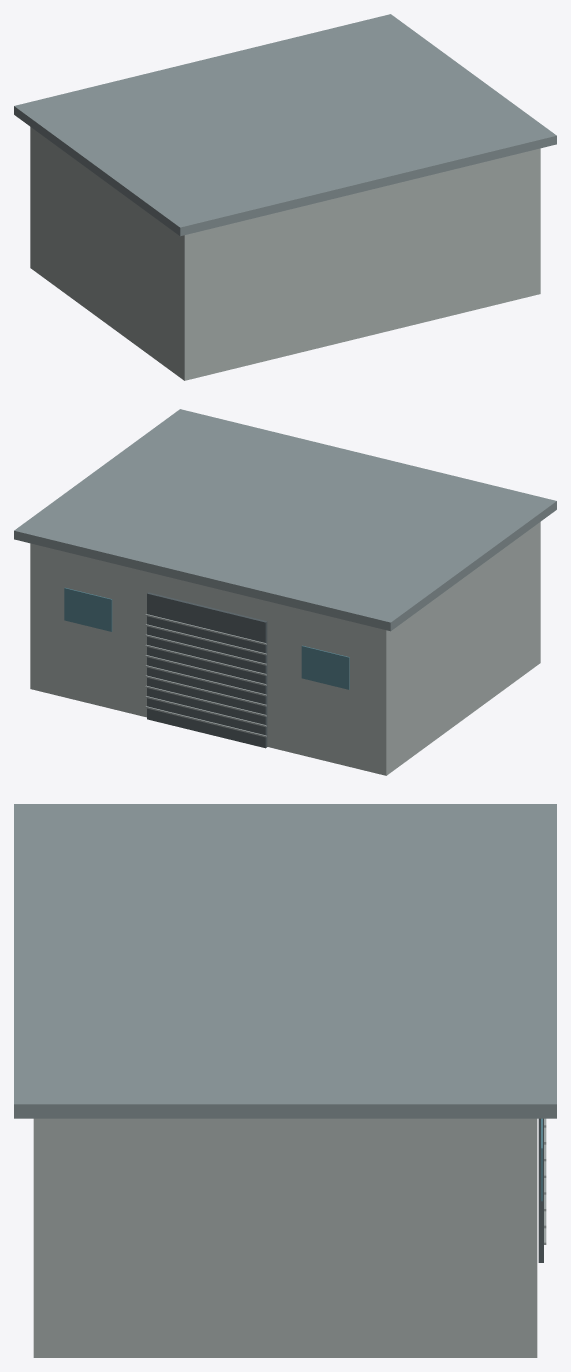
Rendered from DF_MOD_Warehouse.glb.
The picture shows the model from 3 angles, top to bottom: view 1: azimuth 30°, elevation 25°; view 2: azimuth 150°, elevation 25°; view 3: azimuth 270°, elevation 25°; orthographic projection. The views are drawn at different scales.
Parts seen in each view (by area): view 1: Frame, RibbedRoof; view 2: RibbedRoof, Frame, RollupDoor, SideWindow_1, SideWindow_-1; view 3: RibbedRoof, Frame, RollupDoor.
Part boxes in pixels (bbox=[...]): Frame: bbox=[30, 127, 540, 380]; RibbedRoof: bbox=[14, 14, 556, 236]; RibbedRoof: bbox=[14, 409, 556, 631]; Frame: bbox=[30, 522, 540, 775]; RollupDoor: bbox=[147, 592, 267, 748]; SideWindow_1: bbox=[64, 587, 112, 631]; SideWindow_-1: bbox=[301, 645, 349, 689]; RibbedRoof: bbox=[14, 804, 556, 1118]; Frame: bbox=[33, 1118, 537, 1357]; RollupDoor: bbox=[538, 1118, 543, 1262].
Size of the model in its own units: 12.7 by 5.16 by 9.7.
